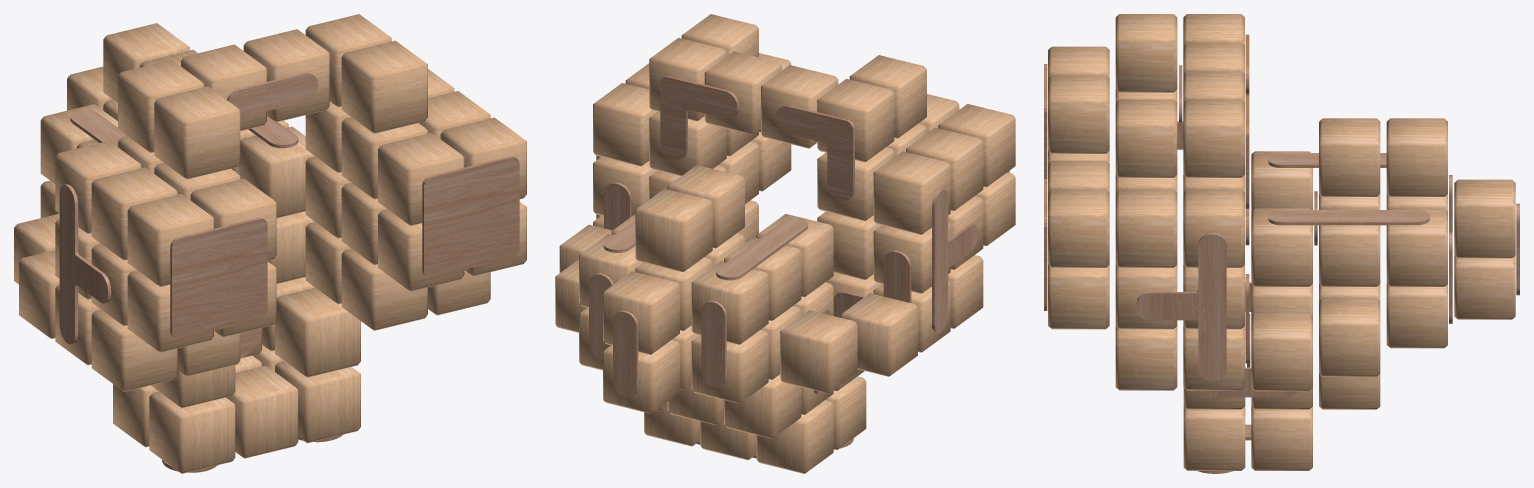
Rendered from level_81.fbx.
3 views of the same model, side by side, from view 1: azimuth 30°, elevation 25°; view 2: azimuth 150°, elevation 25°; view 3: azimuth 270°, elevation 25° (orthographic). The views are drawn at different scales.
Visible parts, largest first — view 1: obj_obs_square.002, obj_obs_square.003, Cube.035, Cube.017, Cube.062, Cube.068, Cube.065, Cube.032, Cube.014, Cube.071, Cube.034, Cube.016 (+40 smaller); view 2: Cube.084, Cube.040, Cube.012, Cube.042, Cube.037, Cube.021, Cube.041, Cube.008, obj_obs_L.006, obj_obs_L.007, Cube.067, Cube.036 (+51 smaller); view 3: obj_obs_T.003, Cube.022, Cube.017, Cube.035, Cube.037, Cube.043, Cube.005, Cube.023, Cube.026, Cube.045, Cube.084, Cube.085 (+34 smaller).
Boxes of the visible parts, x1,y1,x2,y2 form: obj_obs_square.002: (422, 156, 519, 277); obj_obs_square.003: (170, 217, 267, 339); Cube.035: (341, 40, 427, 133); Cube.017: (154, 86, 240, 179); Cube.062: (275, 287, 360, 377); Cube.068: (149, 391, 235, 473); Cube.065: (226, 365, 298, 458); Cube.032: (378, 132, 464, 225); Cube.014: (127, 194, 213, 286); Cube.071: (275, 361, 360, 443); Cube.034: (341, 248, 427, 330); Cube.016: (91, 309, 177, 391); Cube.084: (635, 189, 712, 272); Cube.040: (780, 310, 857, 393); Cube.012: (873, 151, 950, 234); Cube.042: (841, 293, 917, 376); Cube.037: (603, 271, 679, 354); Cube.021: (593, 83, 657, 166); Cube.041: (691, 261, 768, 344); Cube.008: (817, 79, 894, 162); obj_obs_L.006: (776, 105, 854, 200); obj_obs_L.007: (660, 76, 738, 159); Cube.067: (756, 400, 833, 473); Cube.036: (704, 51, 781, 134); obj_obs_T.003: (1136, 233, 1226, 380); Cube.022: (1115, 189, 1177, 267); Cube.017: (1115, 14, 1177, 92); Cube.035: (1115, 99, 1177, 177); Cube.037: (1454, 179, 1515, 258); Cube.043: (1251, 312, 1312, 391); Cube.005: (1048, 75, 1109, 153); Cube.023: (1048, 189, 1109, 267); Cube.026: (1183, 99, 1244, 177); Cube.045: (1319, 298, 1380, 376); Cube.084: (1386, 118, 1447, 196); Cube.085: (1319, 118, 1380, 196).
Size of the model in its own units: 13.23 by 13.13 by 15.48.
